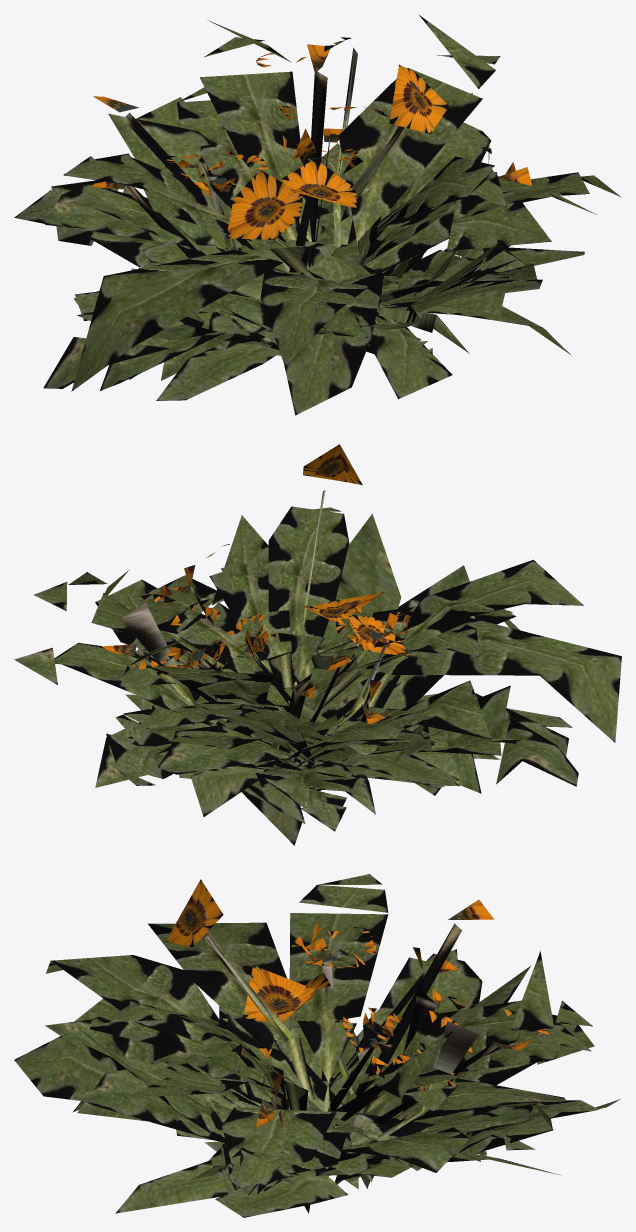
Rendered from ph_flower_gazania.glb.
3 views of the same model, one above another, from view 1: azimuth 30°, elevation 25°; view 2: azimuth 150°, elevation 25°; view 3: azimuth 270°, elevation 25° (orthographic). The views are drawn at different scales.
Parts seen in each view (by area): view 1: v0, v1, v2, v4, v3, v5, v6; view 2: v0, v2, v1, v3, v4, v5, v6, v7; view 3: v0, v2, v1, v3, v4, v5, v6.
Part boxes in pixels (box(x1,y1,x2,y2)): v0: box(63, 15, 621, 398); v1: box(100, 37, 551, 415); v2: box(14, 97, 596, 388); v4: box(156, 129, 510, 400); v3: box(44, 150, 514, 316); v5: box(31, 192, 526, 321); v6: box(129, 213, 571, 379); v0: box(14, 444, 621, 816); v2: box(133, 559, 583, 831); v1: box(102, 544, 568, 756); v3: box(141, 607, 459, 823); v4: box(158, 615, 572, 814); v5: box(199, 638, 459, 845); v6: box(95, 675, 481, 793); v7: box(266, 684, 440, 761); v0: box(14, 874, 620, 1217); v2: box(45, 947, 594, 1187); v1: box(74, 973, 591, 1193); v3: box(177, 923, 486, 1193); v4: box(77, 1007, 567, 1183); v5: box(151, 949, 467, 1195); v6: box(73, 1101, 560, 1213).
Bounding box in the file's own units: 0.3327 × 0.1866 × 0.3276.
Materials: 1 (1 with a texture image).
